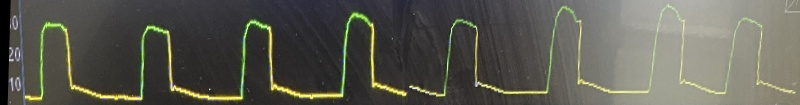normal_pressure: (30, 4, 732, 105)
